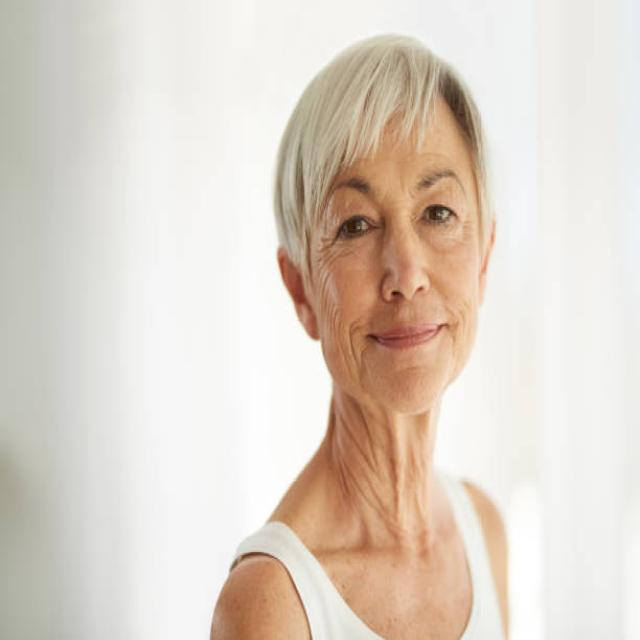Dry-Skin: (304, 235, 366, 375), (440, 245, 498, 344)
